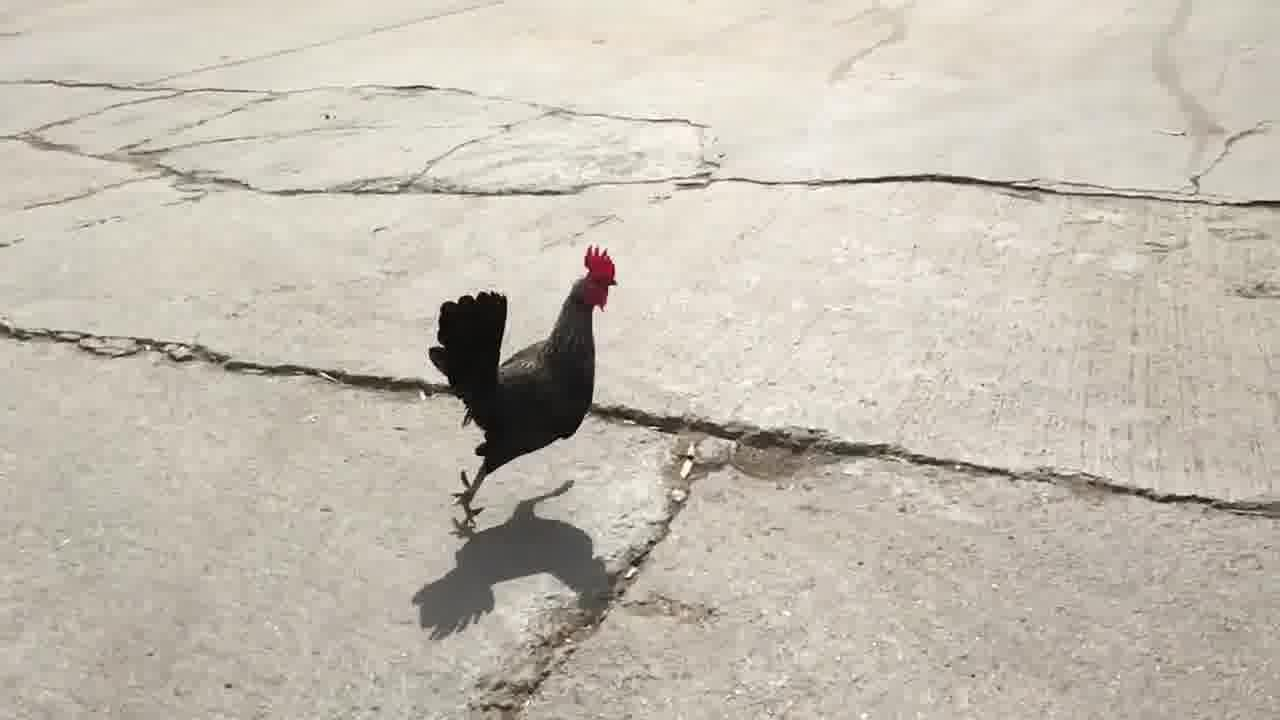Normal: (414, 236, 642, 528)
